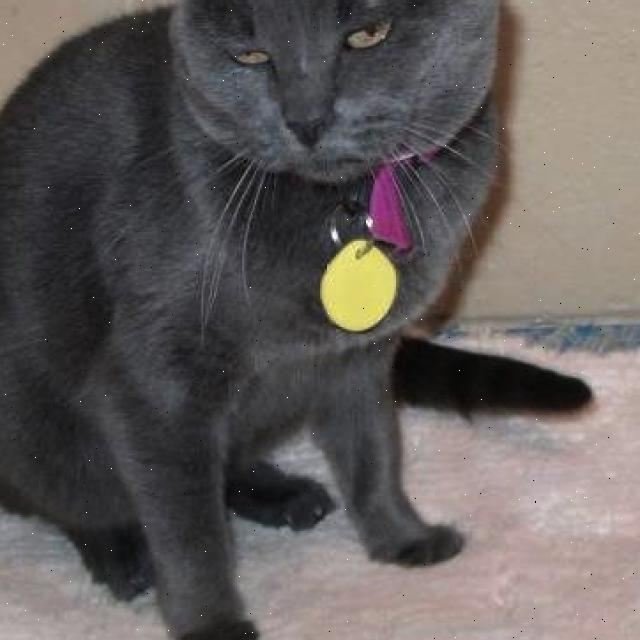Cat: (123, 0, 560, 207)
